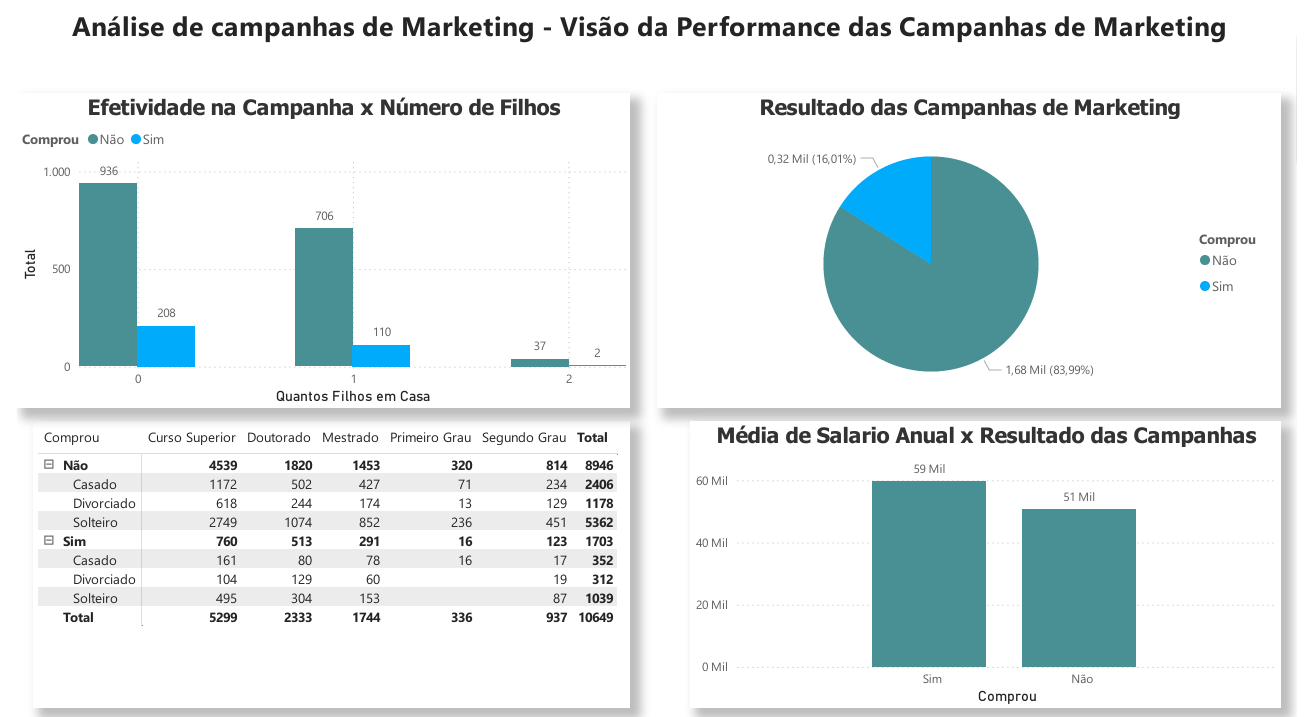

This screenshot's page, from the dashboard's own definition file:
{"tool":"powerbi","page":{"name":"Visão Campanhas","canvas":[1280,720],"ordinal":2},"visuals":[{"type":"pieChart","title":"Resultado das Campanhas de Marketing","fields":{"Category":["DadosMarketing.Comprou"],"Y":["CountNonNull(DadosMarketing.ID)"]},"box":[640.6,92.7,624.7,314.8],"z":0},{"type":"clusteredColumnChart","title":"Média de Salario Anual x Resultado das Campanhas","fields":{"Category":["DadosMarketing.Comprou"],"Y":["Avg(DadosMarketing.Salario Anual)"]},"box":[673.6,421,591.8,286.7],"z":1000},{"type":"textbox","box":[0,0,1265.4,50],"z":2000},{"type":"pivotTable","fields":{"Rows":["DadosMarketing.Comprou","DadosMarketing.Estado Civil"],"Values":["Sum(DadosMarketing.Numero Visitas WebSite Mes)"],"Columns":["DadosMarketing.Escolaridade"]},"box":[17.1,421,596.7,286.7],"z":3000},{"type":"clusteredColumnChart","title":"Efetividade na Campanha x Número de Filhos","fields":{"Category":["DadosMarketing.Filhos em Casa"],"Series":["DadosMarketing.Comprou"],"Y":["CountNonNull(DadosMarketing.Filhos em Casa)"]},"box":[0,92.7,613.8,314.8],"z":4000}]}

Visuals, with their boxes in screenshot pixels (x1, y1, x2, y2), scaled from the page's 1280x720 canvas onto the 1310x717 screenshot:
"Resultado das Campanhas de Marketing" pieChart: {"x1": 656, "y1": 92, "x2": 1295, "y2": 406}
"Média de Salario Anual x Resultado das Campanhas" clusteredColumnChart: {"x1": 689, "y1": 419, "x2": 1295, "y2": 705}
textbox: {"x1": 0, "y1": 0, "x2": 1295, "y2": 50}
pivotTable - DadosMarketing.Comprou x DadosMarketing.Estado Civil: {"x1": 18, "y1": 419, "x2": 628, "y2": 705}
"Efetividade na Campanha x Número de Filhos" clusteredColumnChart: {"x1": 0, "y1": 92, "x2": 628, "y2": 406}
